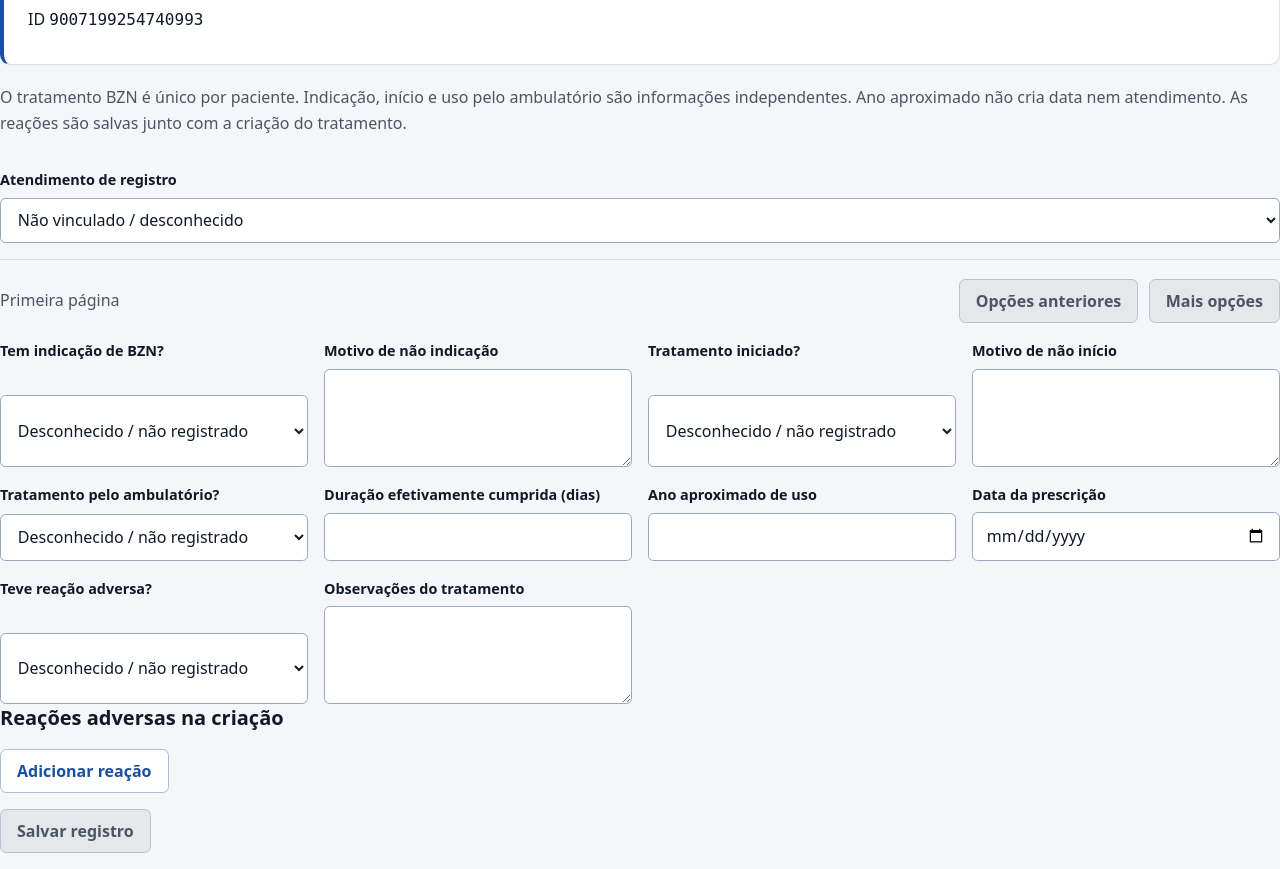
Test case: formulários de acompanhamento › rascunho BZN iniciado sem contexto permanece ao escolher atendimento e alternar módulos pelos atalhos
(page scrolled)
Type "Rascunho iniciado antes da escolha" into the text box labelled "Observações do tratamento" at {"x": 478, "y": 655}, box [324,606,632,704]
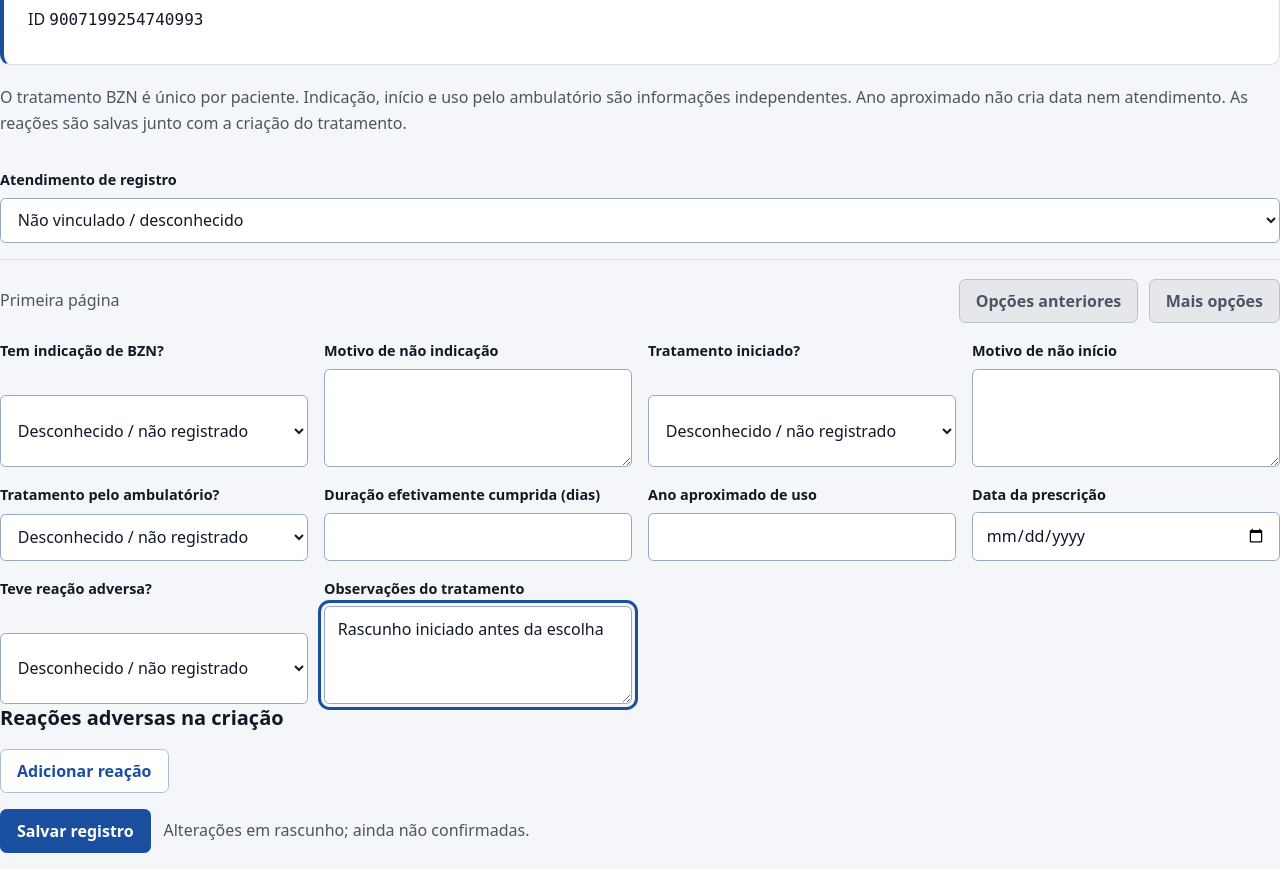
Select "29/02/2024 · Atendimento 9007199254740995" in the dropdown labelled "Atendimento de registro" at {"x": 640, "y": 220}, box [0,198,1279,243]
(page scrolled)
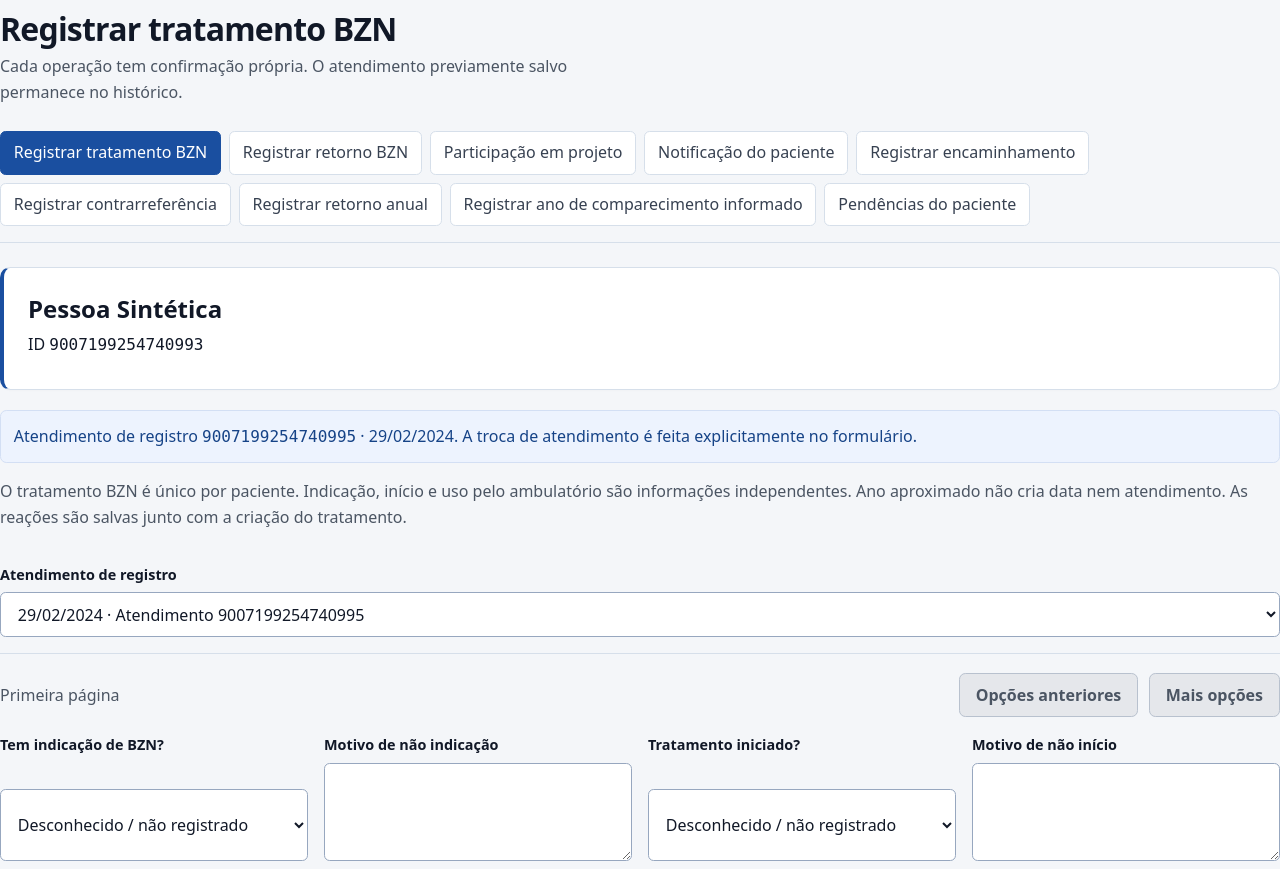
Click the link "Notificação do paciente" at {"x": 746, "y": 153}, box [644,131,848,175]
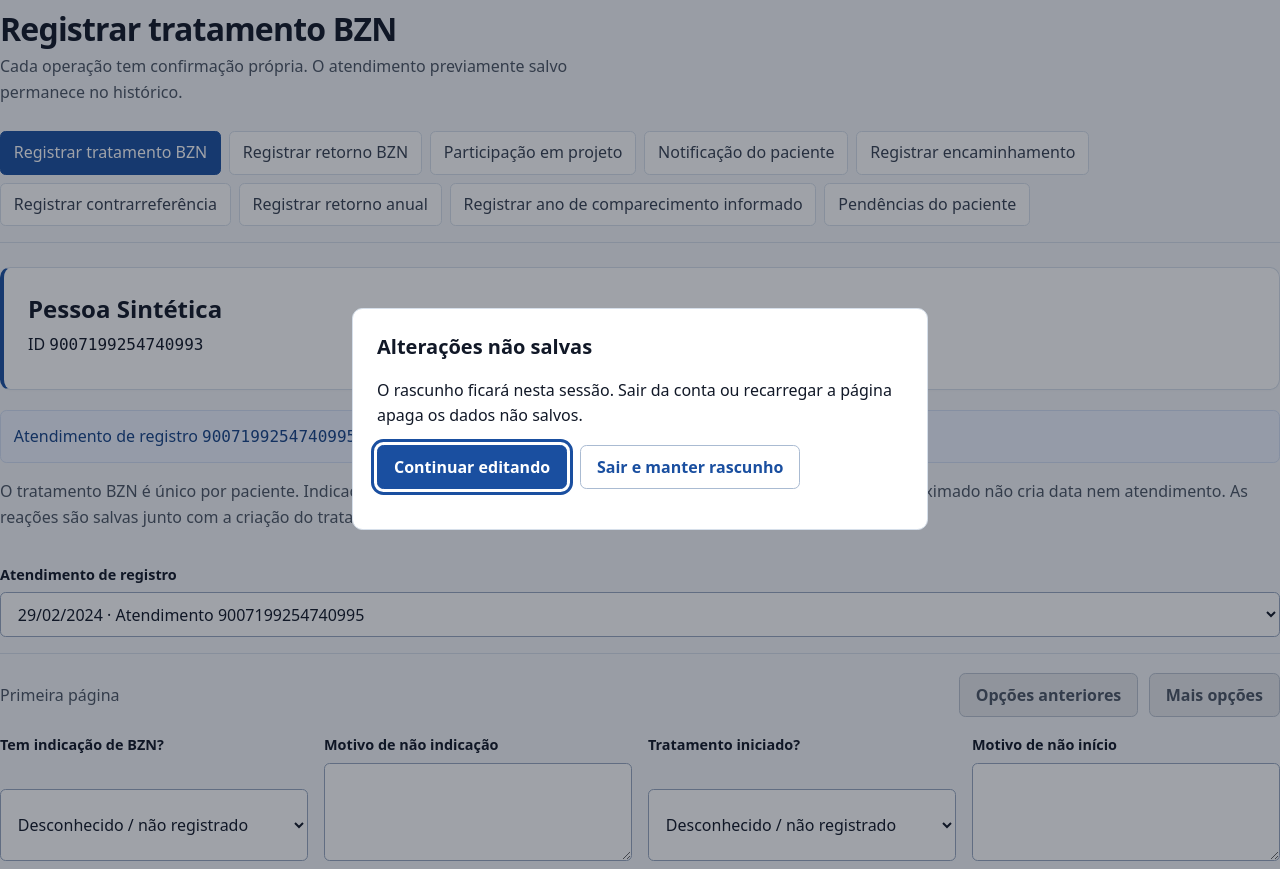
Click the button "Sair e manter rascunho" at {"x": 690, "y": 467}, box [580,445,800,489]
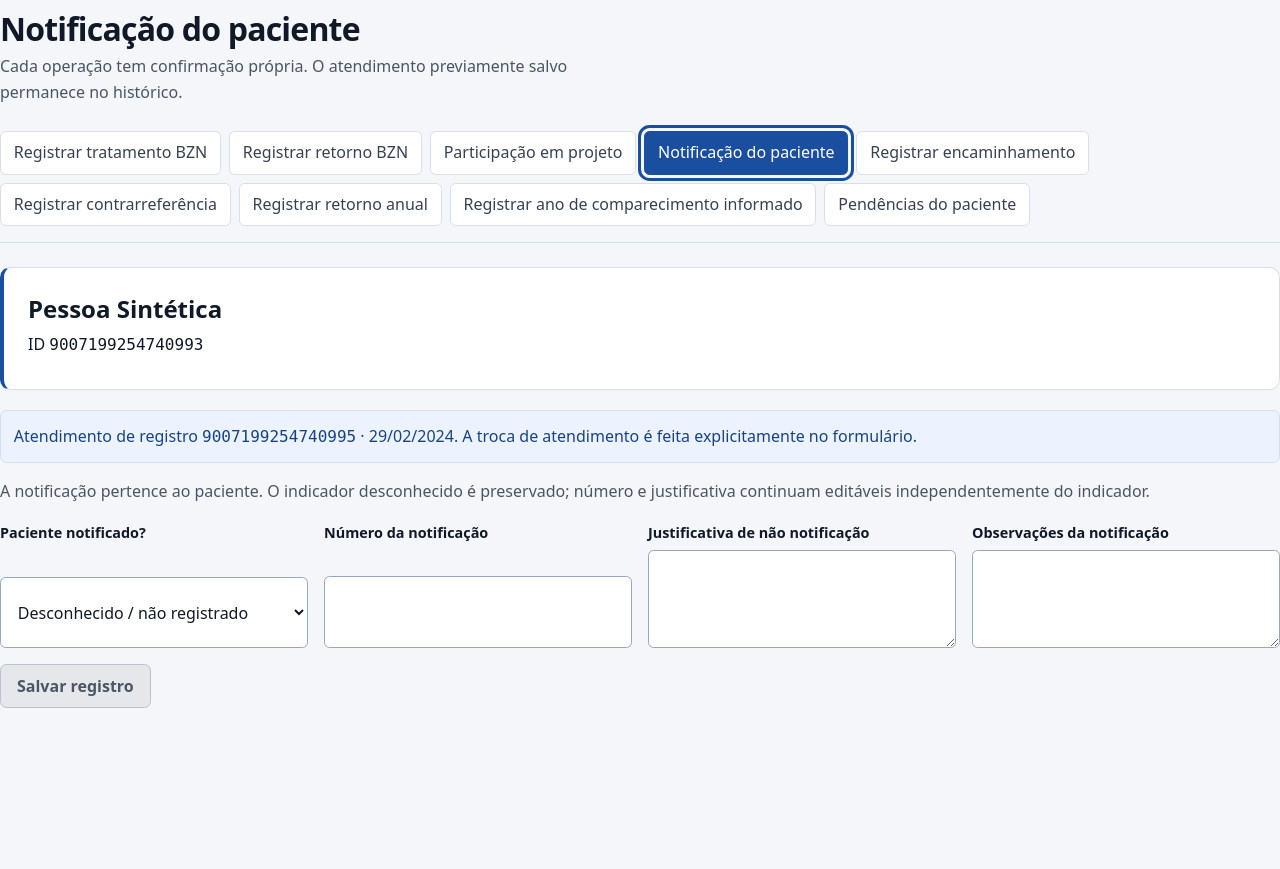
Click the link "Registrar tratamento BZN" at {"x": 110, "y": 153}, box [0,131,221,175]
(page scrolled)
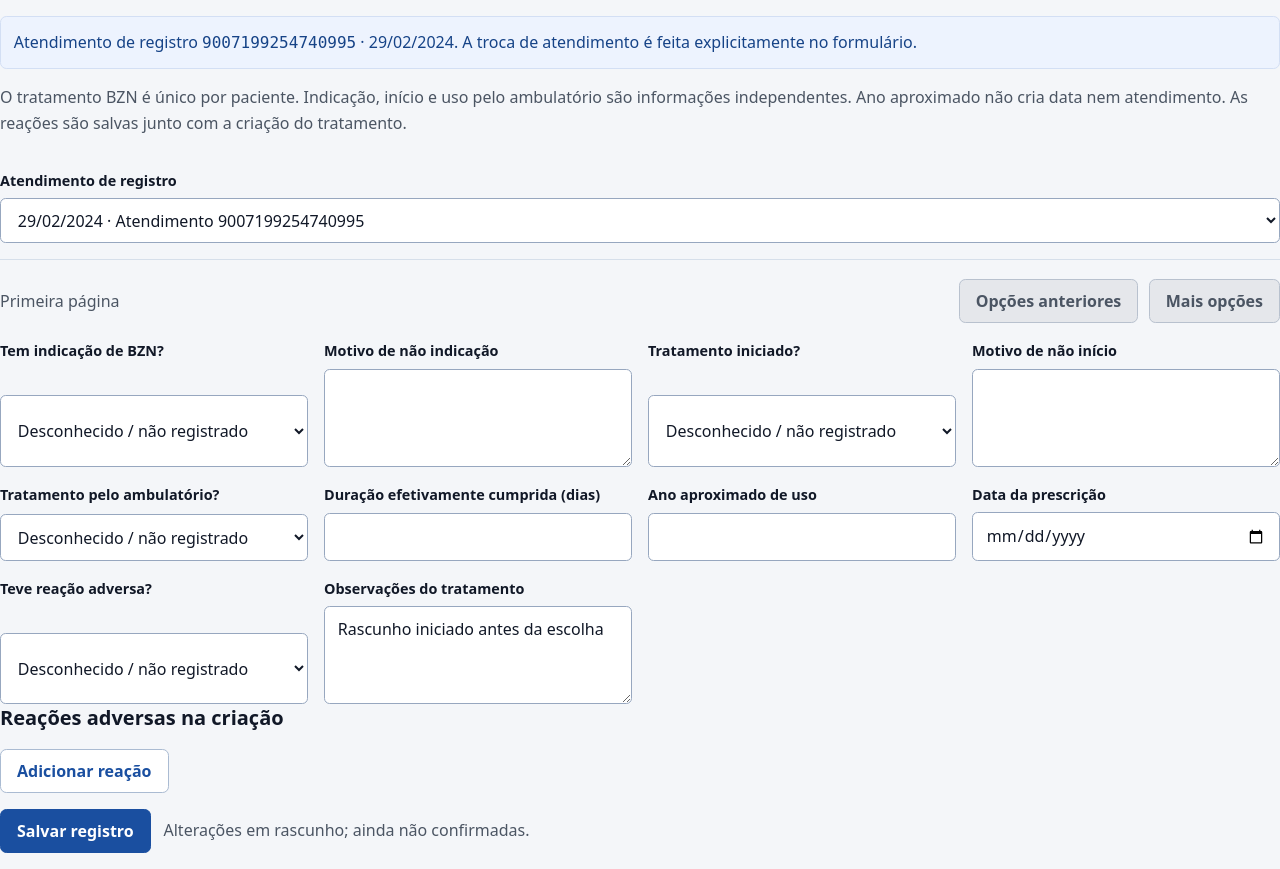
Expected: the dropdown labelled "Atendimento de registro" shows "29/02/2024 · Atendimento 9007199254740995", [0,198,1279,243]
Expected: the text box labelled "Observações do tratamento" holds "Rascunho iniciado antes da escolha", [324,606,632,704]
